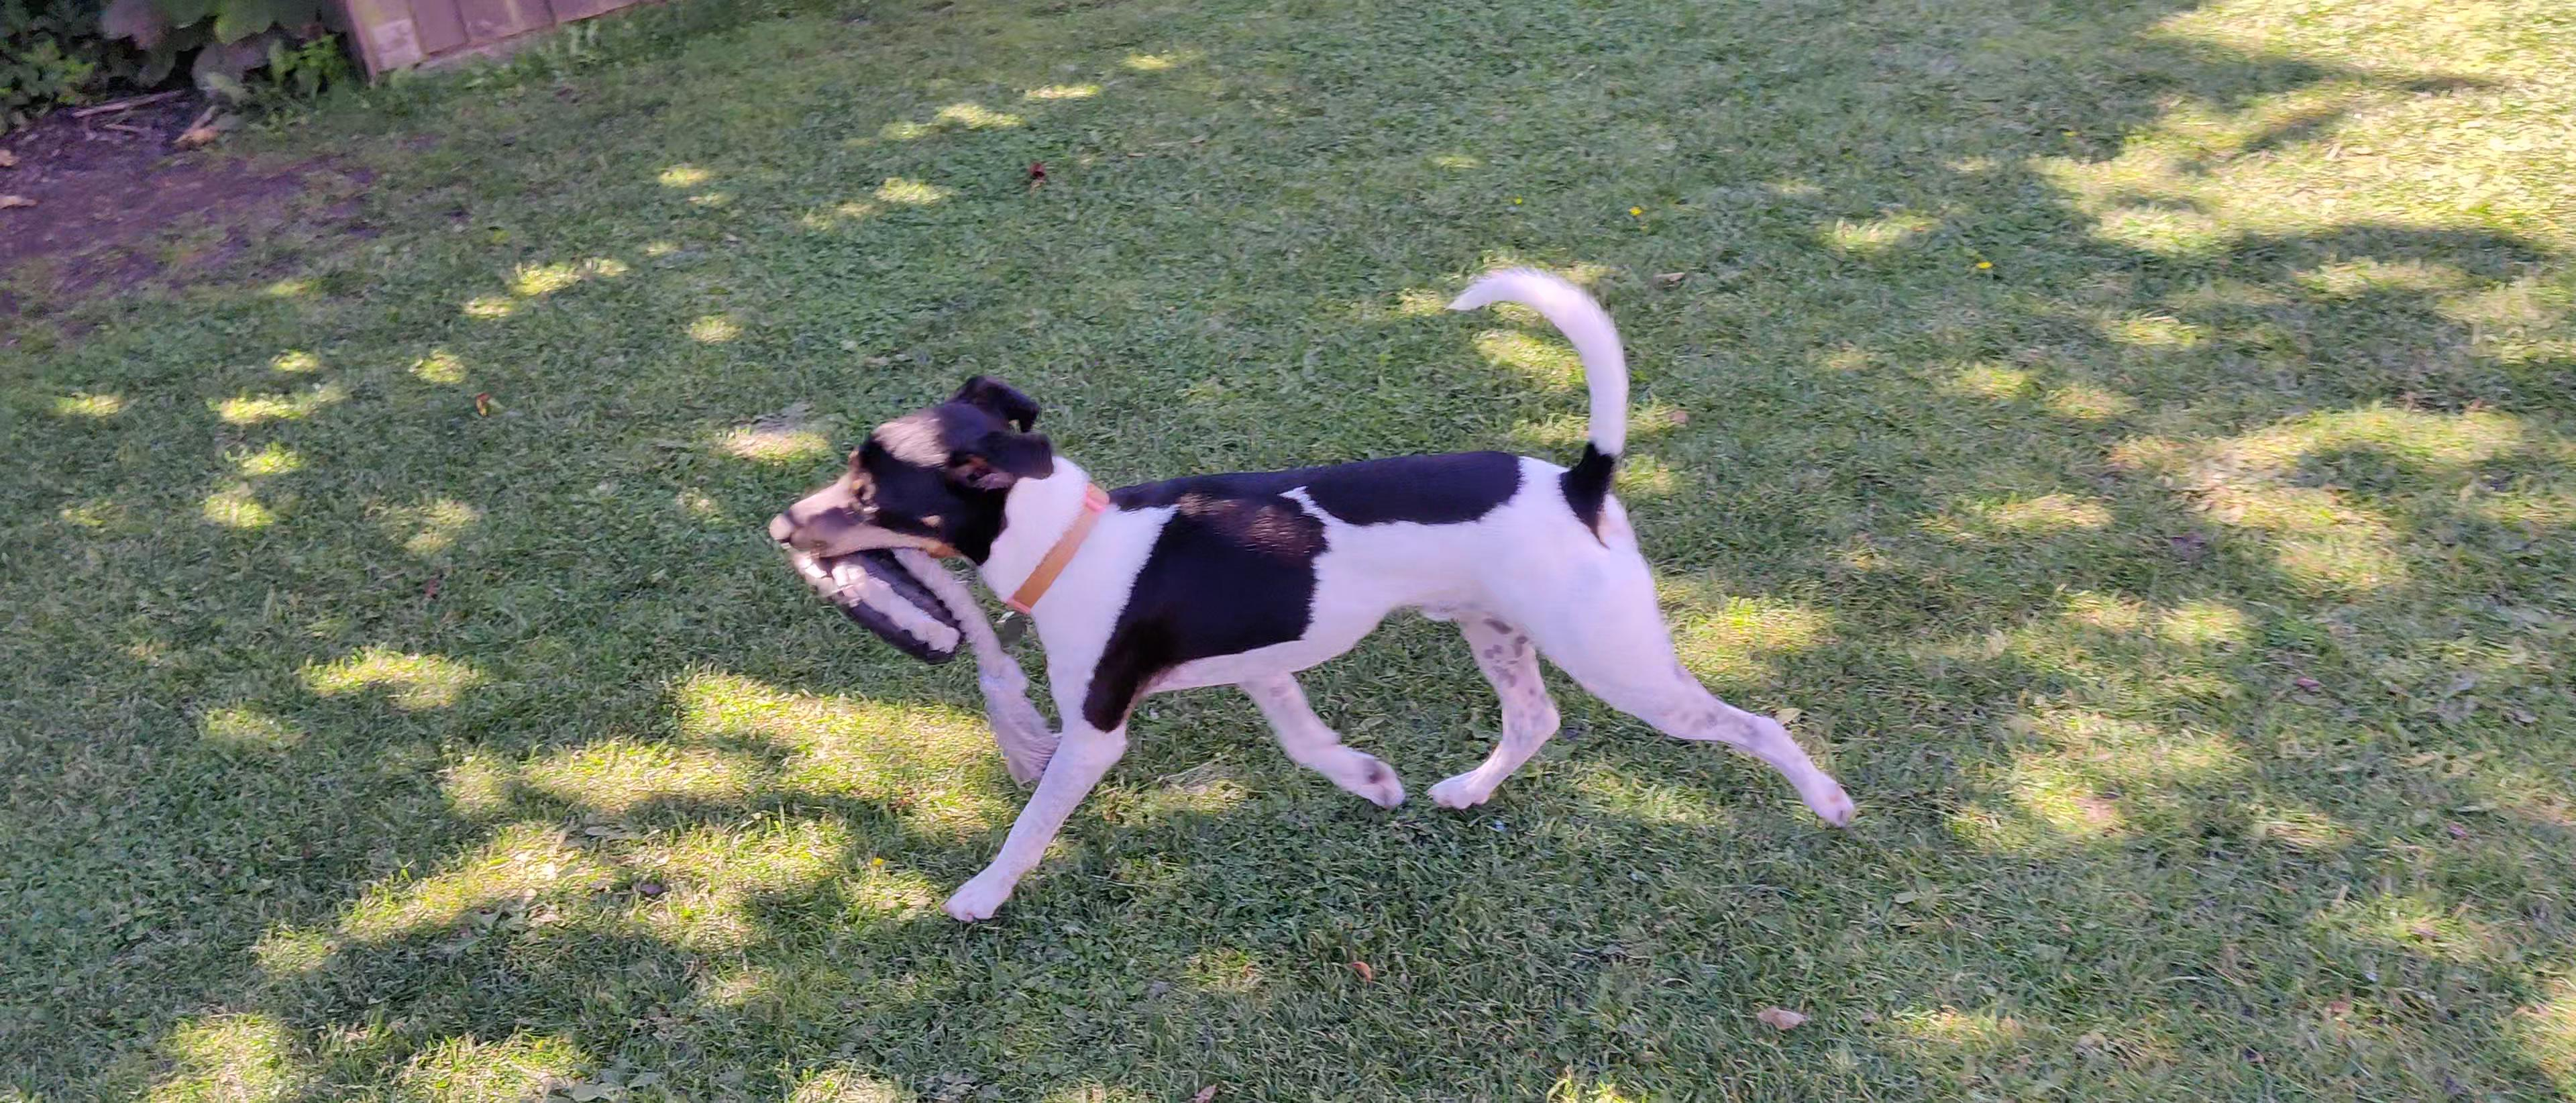Dog: (749, 253, 1870, 935)
